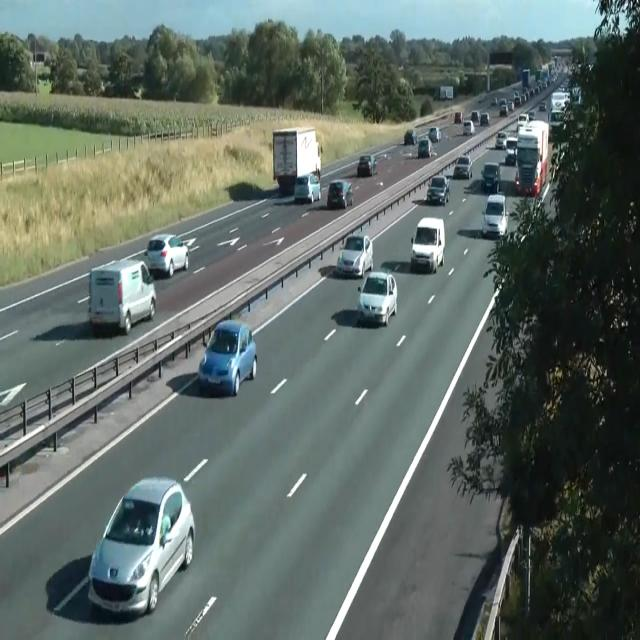bus: (87, 475, 195, 617), (198, 318, 257, 396), (357, 270, 398, 326), (143, 233, 189, 277), (337, 233, 373, 277), (294, 172, 320, 204), (327, 179, 353, 209), (426, 174, 450, 204), (453, 154, 473, 178), (357, 154, 377, 177), (418, 138, 433, 157), (517, 112, 529, 131), (404, 129, 418, 145), (429, 126, 441, 142), (454, 112, 462, 124), (538, 102, 546, 110), (528, 110, 534, 120)
jeep: (88, 258, 156, 335), (409, 216, 445, 273), (481, 193, 508, 237), (480, 161, 500, 191), (548, 108, 565, 138), (550, 90, 570, 111), (505, 136, 517, 164), (495, 130, 507, 148), (462, 118, 474, 135)
minibus: (272, 125, 322, 195), (514, 120, 548, 196), (439, 86, 453, 100), (522, 69, 530, 87)
